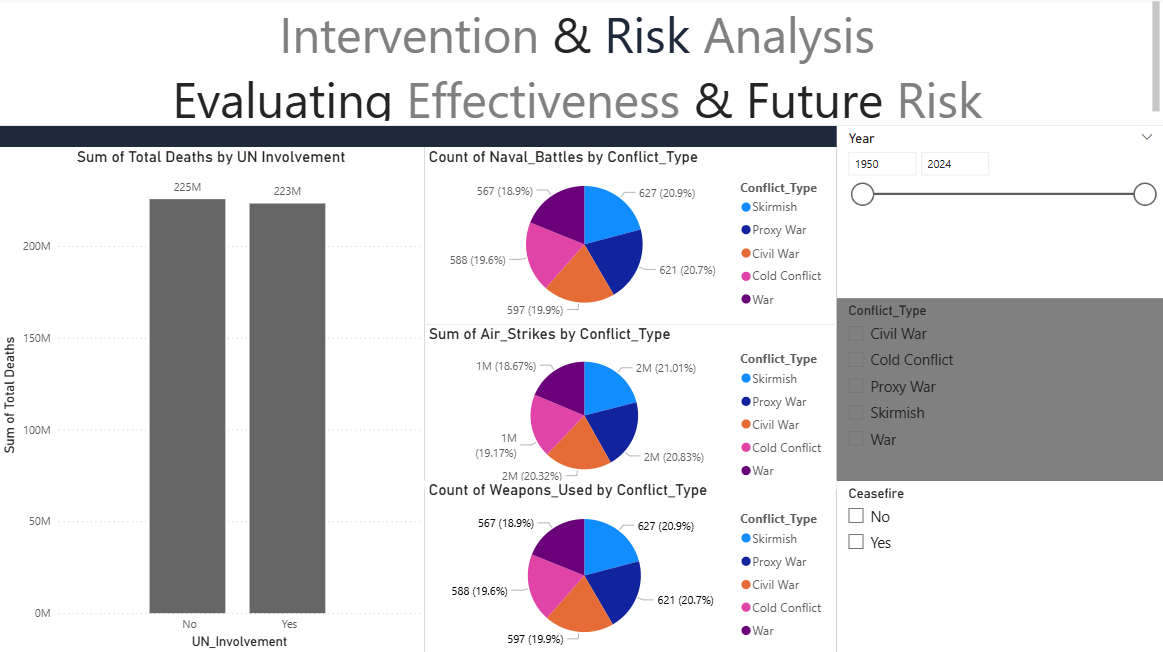

What the dashboard file says about the page in this screenshot:
{"tool":"powerbi","page":{"name":"Page 3","canvas":[1280,720],"ordinal":2},"visuals":[{"type":"textbox","box":[0,0,1280.3,141.3],"z":0},{"type":"clusteredColumnChart","title":"Sum of Total Deaths by UN Involvement","fields":{"Category":["global_conflicts_dataset.UN_Involvement"],"Y":["Sum(global_conflicts_dataset.Total Deaths)"]},"box":[0,164.7,467.9,555.7],"z":1000},{"type":"slicer","fields":{"Values":["global_conflicts_dataset.Year"]},"box":[920.8,141.3,359.5,189.4],"z":2000},{"type":"slicer","fields":{"Values":["global_conflicts_dataset.Conflict_Type"]},"box":[920.8,330.7,359.5,200.3],"z":3000},{"type":"slicer","fields":{"Values":["global_conflicts_dataset.Ceasefire"]},"box":[920.8,531,359.5,189.4],"z":4000},{"type":"pieChart","fields":{"Category":["global_conflicts_dataset.Conflict_Type"],"Y":["CountNonNull(global_conflicts_dataset.Naval_Battles)"]},"box":[467.9,164.7,452.8,194.9],"z":5000},{"type":"pieChart","fields":{"Category":["global_conflicts_dataset.Conflict_Type"],"Y":["Sum(global_conflicts_dataset.Air_Strikes)"]},"box":[467.9,359.5,452.8,181.1],"z":6000},{"type":"pieChart","fields":{"Category":["global_conflicts_dataset.Conflict_Type"],"Y":["CountNonNull(global_conflicts_dataset.Weapons_Used)"]},"box":[467.9,531,452.8,189.4],"z":7000}]}

Visuals, with their boxes in screenshot pixels (x1, y1, x2, y2), scaled from the page's 1280x720 canvas onto the 1163x652 screenshot:
textbox: 0 0 1162 128
"Sum of Total Deaths by UN Involvement" clusteredColumnChart: 0 149 425 651
slicer - global_conflicts_dataset.Year: 837 128 1162 299
slicer - global_conflicts_dataset.Conflict_Type: 837 299 1162 481
slicer - global_conflicts_dataset.Ceasefire: 837 481 1162 651
pieChart - global_conflicts_dataset.Conflict_Type x CountNonNull(global_conflicts_dataset.Naval_Battles): 425 149 837 326
pieChart - global_conflicts_dataset.Conflict_Type x Sum(global_conflicts_dataset.Air_Strikes): 425 326 837 490
pieChart - global_conflicts_dataset.Conflict_Type x CountNonNull(global_conflicts_dataset.Weapons_Used): 425 481 837 651
